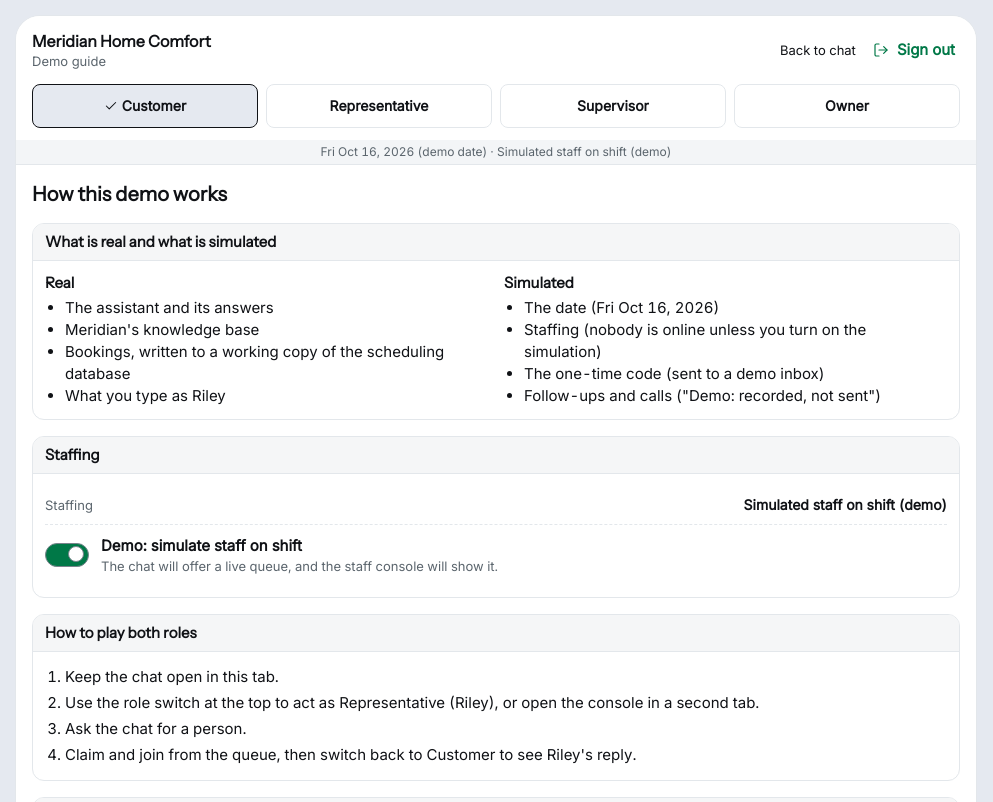
Test case: Scr03 demo guide › turn off with 1 converted: exact line
The image size is (993, 802).
Click the switch labelled "Demo: simulate staff on shift". click: (272, 555)
box: [45,536,498,574]
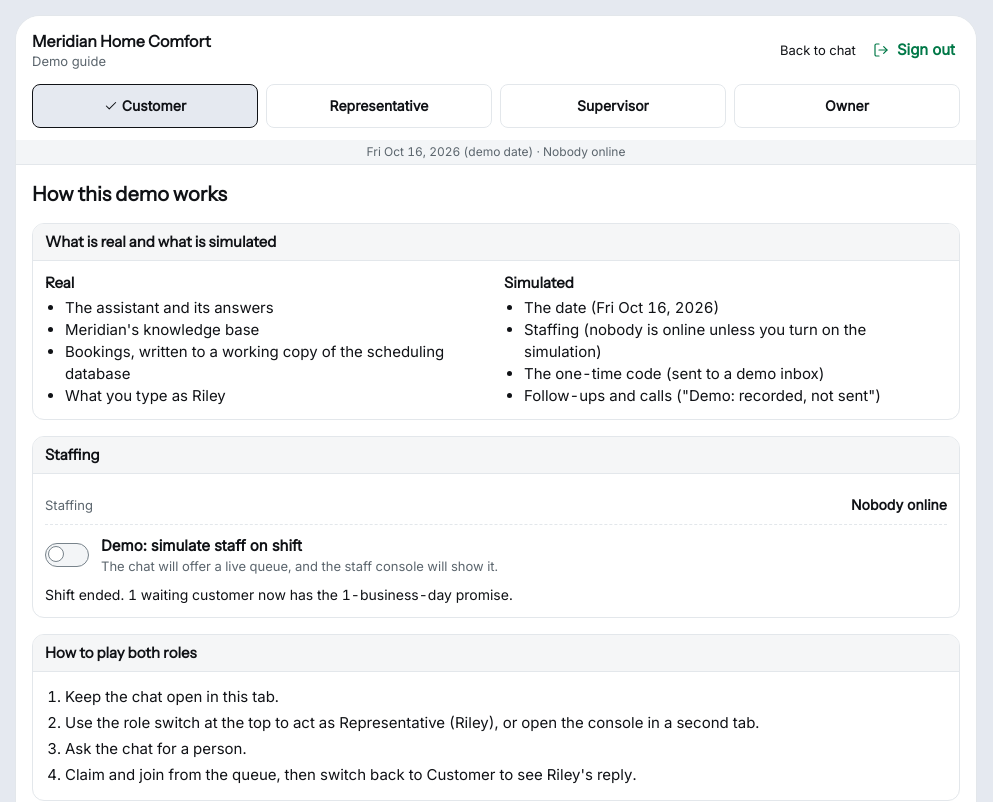
Check: the text "Shift ended. 1 waiting customer now has the 1-business-day promise." is shown, box [45,586,513,603]
